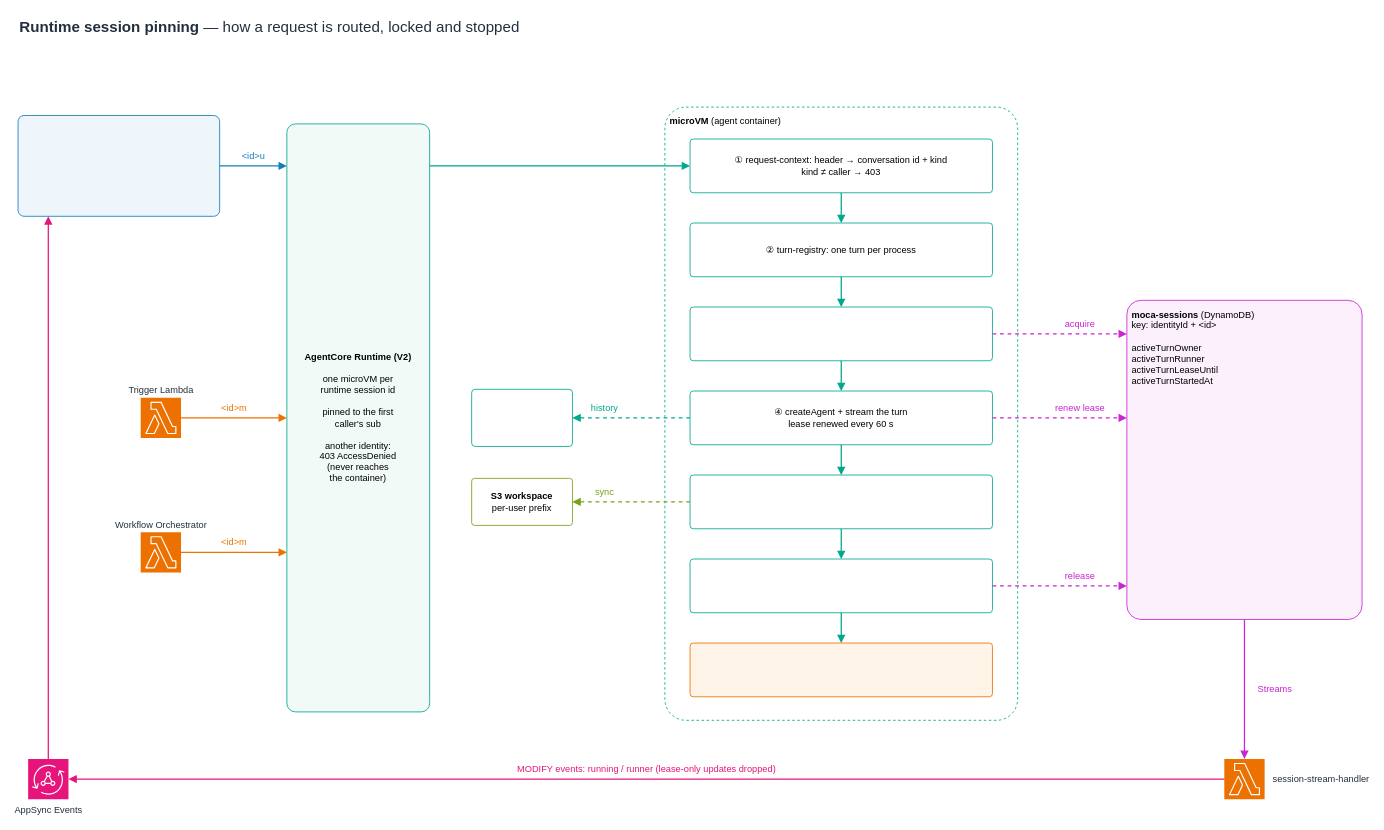
Image size: 1384x830. Some labels were removed from this diagram. The shapes that lost their labels are listed below. From the top down, each one's centre as x and y in pixels, then its label:
At pixel 118 165: "Browser (runtime-session.ts) always <id>u no token renewal on machine turns".
At pixel 840 333: "③ TurnLock.acquire (conditional update) held → serverTurnInProgressEvent".
At pixel 521 417: "AgentCore Memory session = <id>".
At pixel 840 501: "⑤ final S3 workspace sync".
At pixel 840 585: "⑥ TurnLock.release (owner only)".
At pixel 840 669: "⑦ machine caller only: POST /stopruntimesession".
